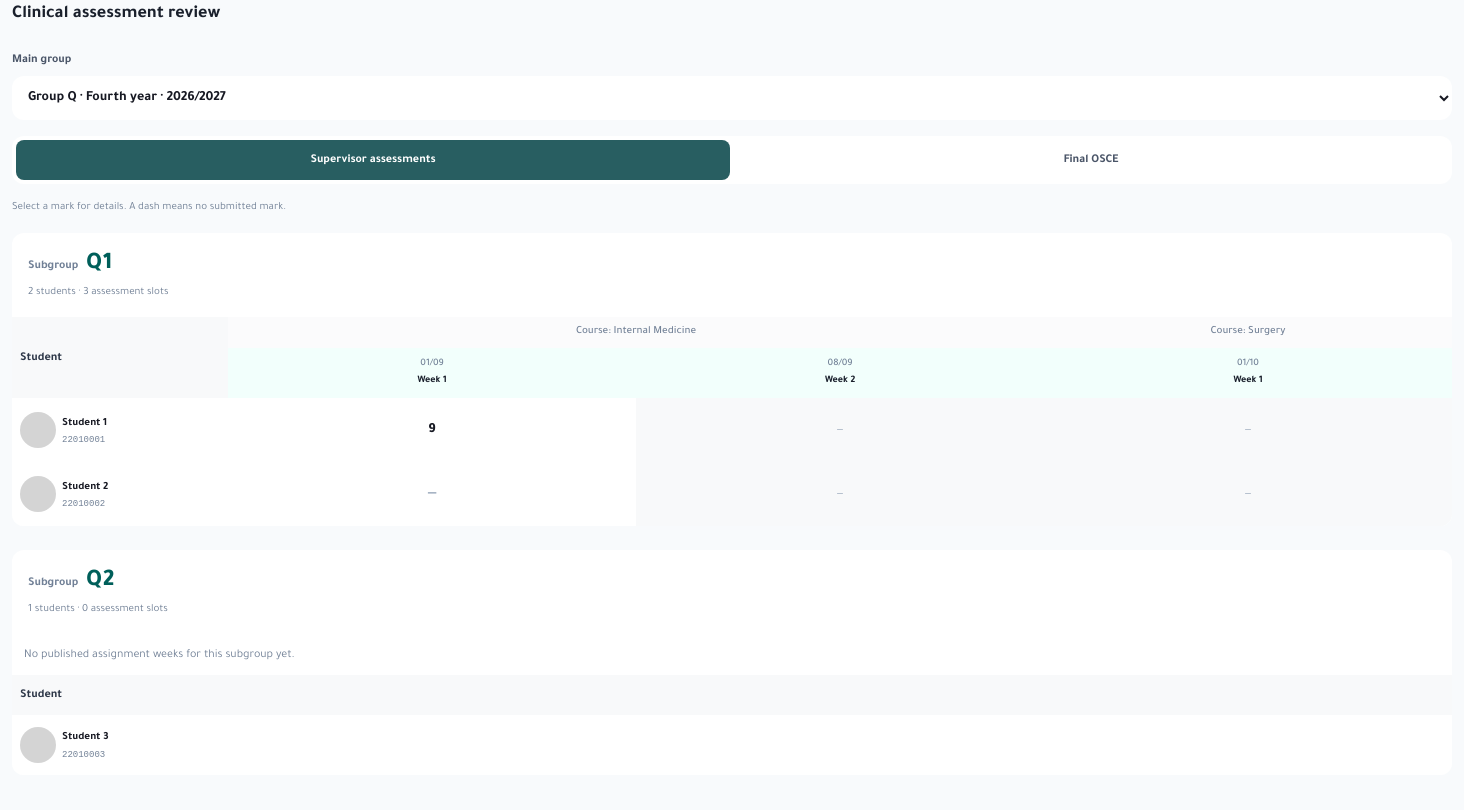
AssessmentsMasterPage review › reviews final OSCE once per course with recorded zero, pending students and grade-sheet status
expect the table named "Q1" is shown: met, box [12,317,1452,526]
expect the text "Doctor Seven" is not shown: met
What coordinates should you click on to do the following:
click the button "Final OSCE"
I would click on:
 (1091, 160)
Its box is [734,140,1448,180].
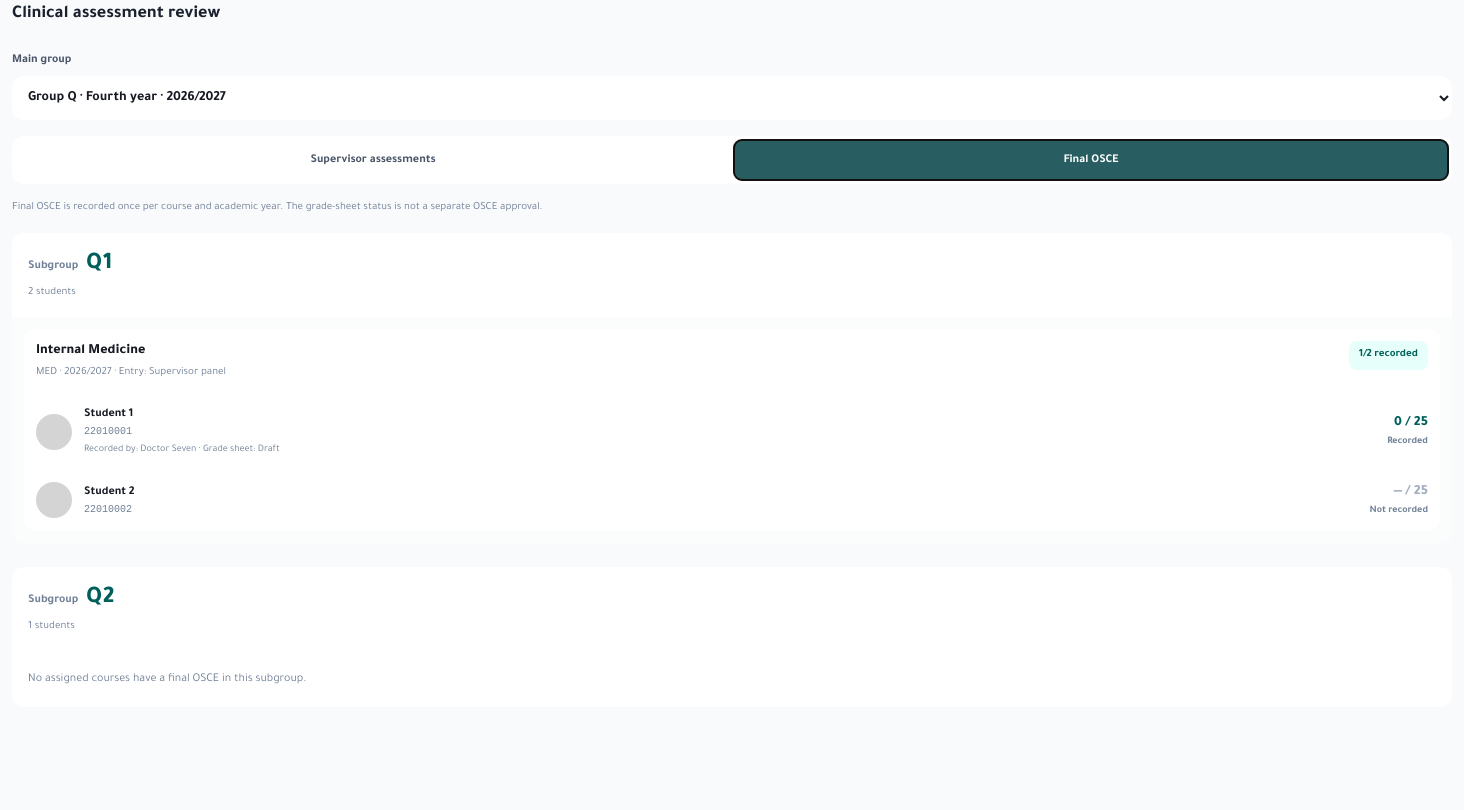
expect the text "1/2 recorded" is shown: met, box [1349,341,1428,370]
expect the text "0 / 25" is shown: met, box [1394,416,1428,430]
expect the text "Recorded by: Doctor Seven · Grade sheet: Draft" is shown: met, box [84,444,280,454]
What coordinates should you click on to do the following:
click the button "Supervisor assessments"
I would click on:
 (373, 160)
Its box is [16,140,730,180].
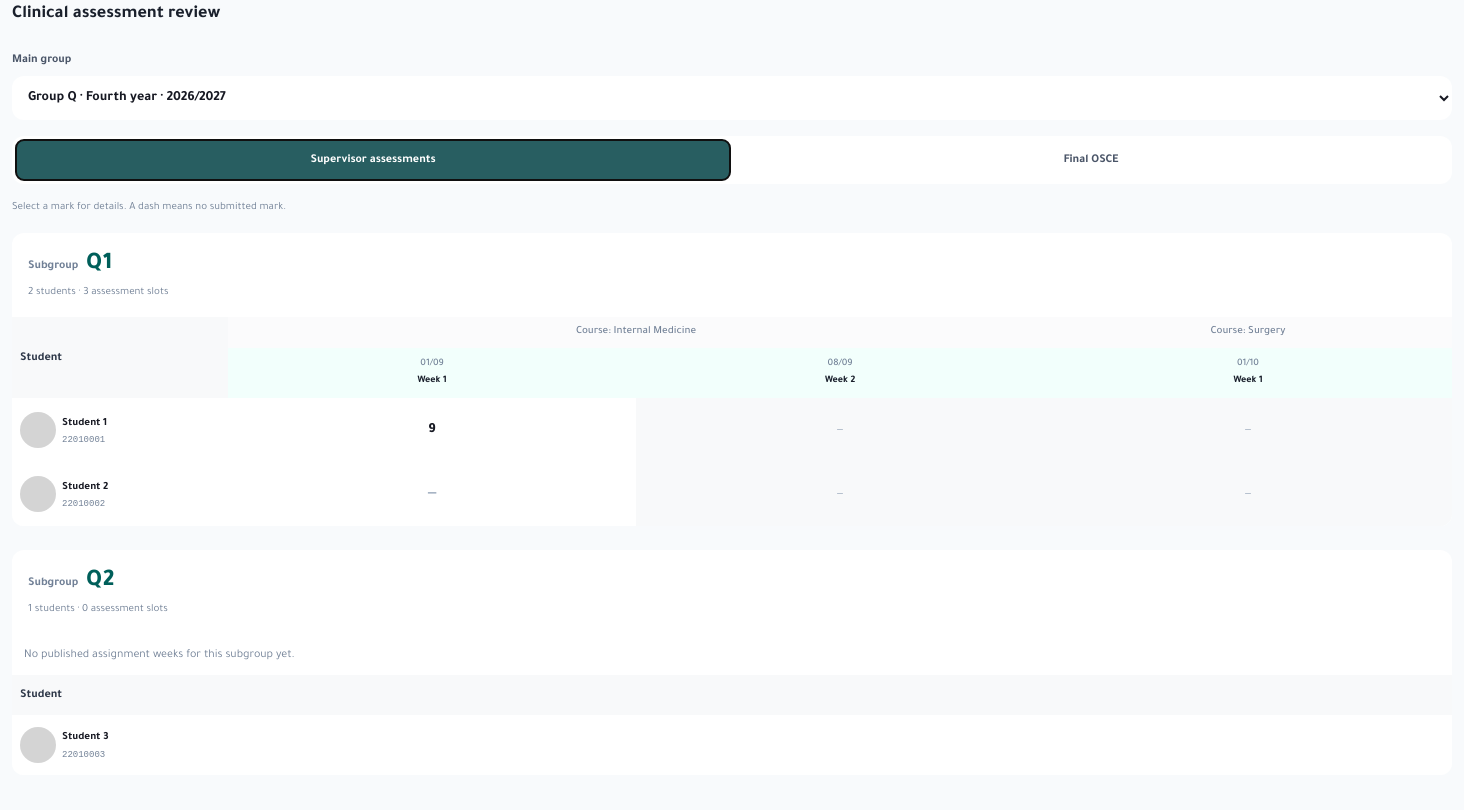
expect the table named "Q1" is shown: met, box [12,317,1452,526]
